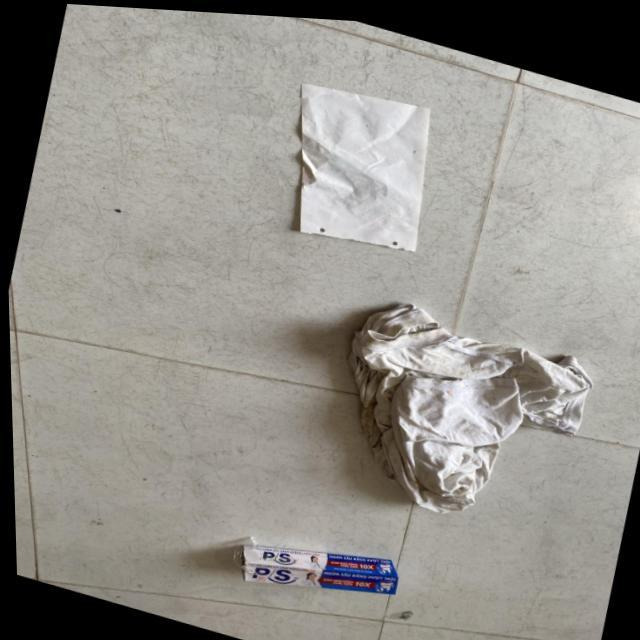cardboard: (314, 272, 598, 542)
food: (252, 54, 460, 270)
trash: (212, 504, 412, 629)
